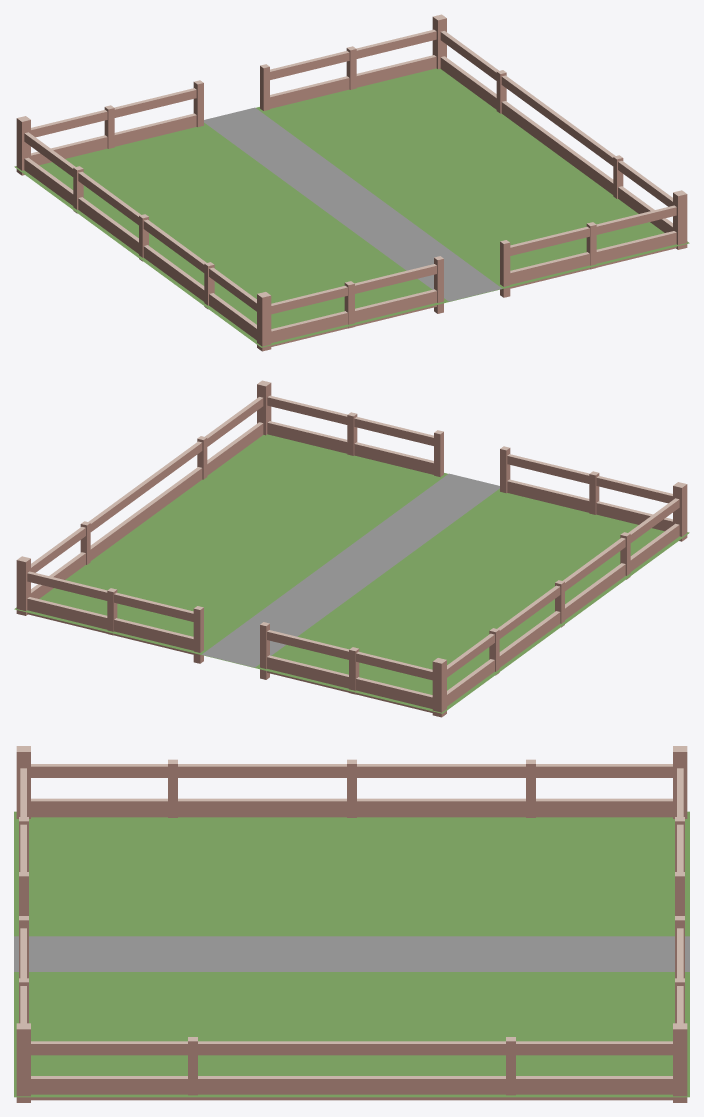
Rendered from tile_for_home_1x1_003.glb.
The picture shows the model from 3 angles, top to bottom: view 1: azimuth 30°, elevation 25°; view 2: azimuth 150°, elevation 25°; view 3: azimuth 270°, elevation 25°; orthographic projection. The views are drawn at different scales.
Parts seen in each view (by area): view 1: tile_for_home_1x1_003; view 2: tile_for_home_1x1_003; view 3: tile_for_home_1x1_003.
Boxes of the visible parts, bbox=[...] form: tile_for_home_1x1_003: bbox=[14, 14, 689, 351]; tile_for_home_1x1_003: bbox=[14, 380, 689, 717]; tile_for_home_1x1_003: bbox=[14, 746, 689, 1102].
Size of the model in its own units: 8 by 1.07 by 8.
Materials: 1 (1 with a texture image).
